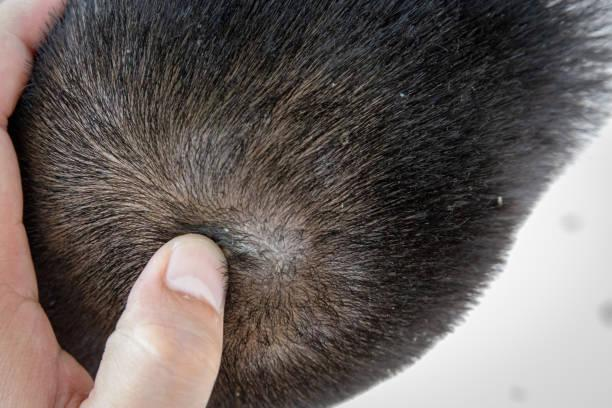dandruff: (185, 15, 206, 54), (209, 218, 236, 241), (323, 75, 339, 94), (494, 193, 509, 209), (119, 44, 135, 57), (396, 88, 406, 101)
